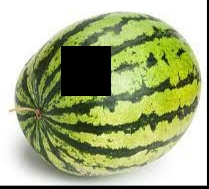watermelon: (12, 10, 201, 176)
